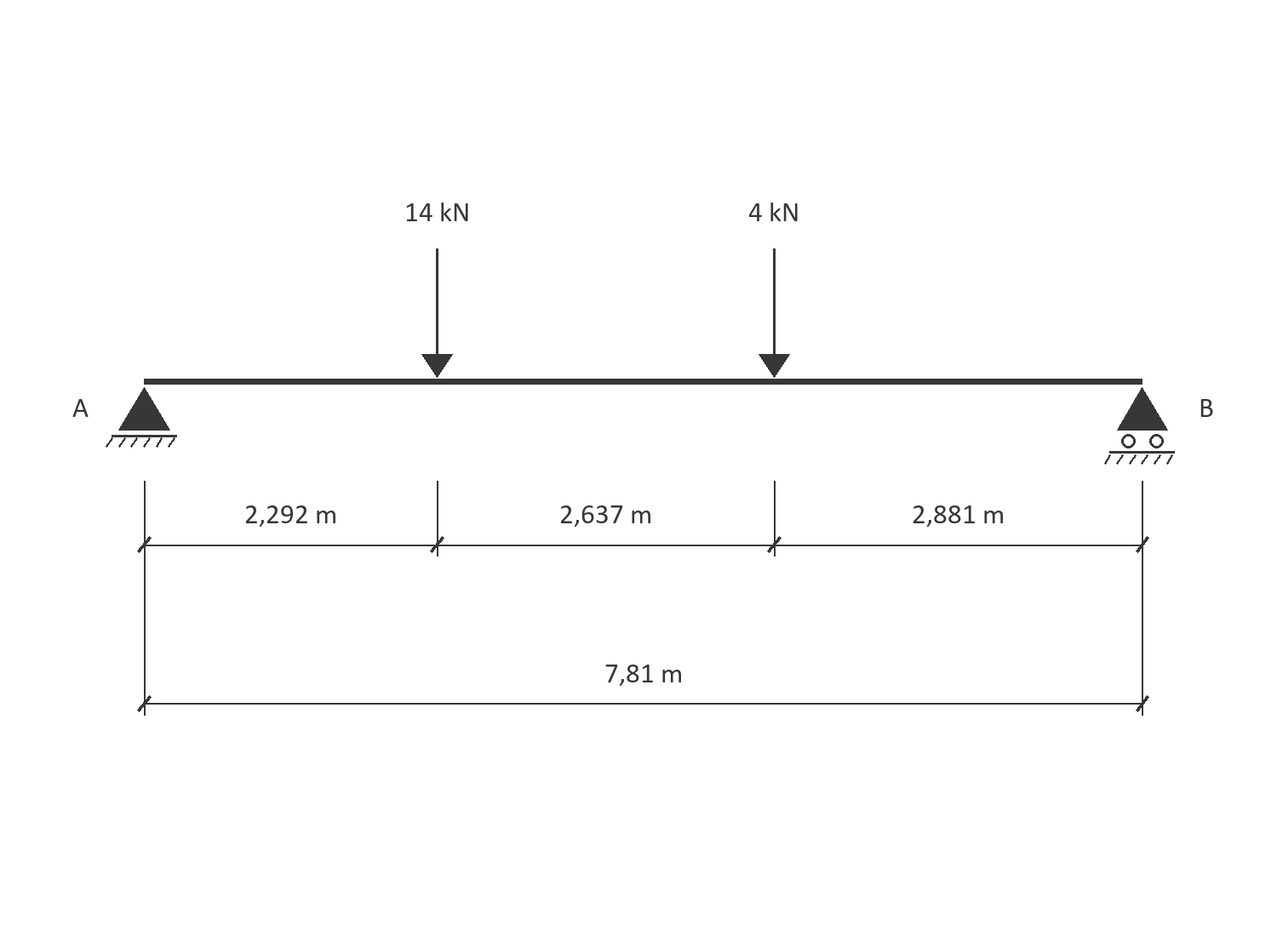pin_support: (106, 387, 177, 448)
point_load: (421, 248, 453, 378), (759, 248, 790, 378)
roller_support: (1104, 387, 1175, 465)
